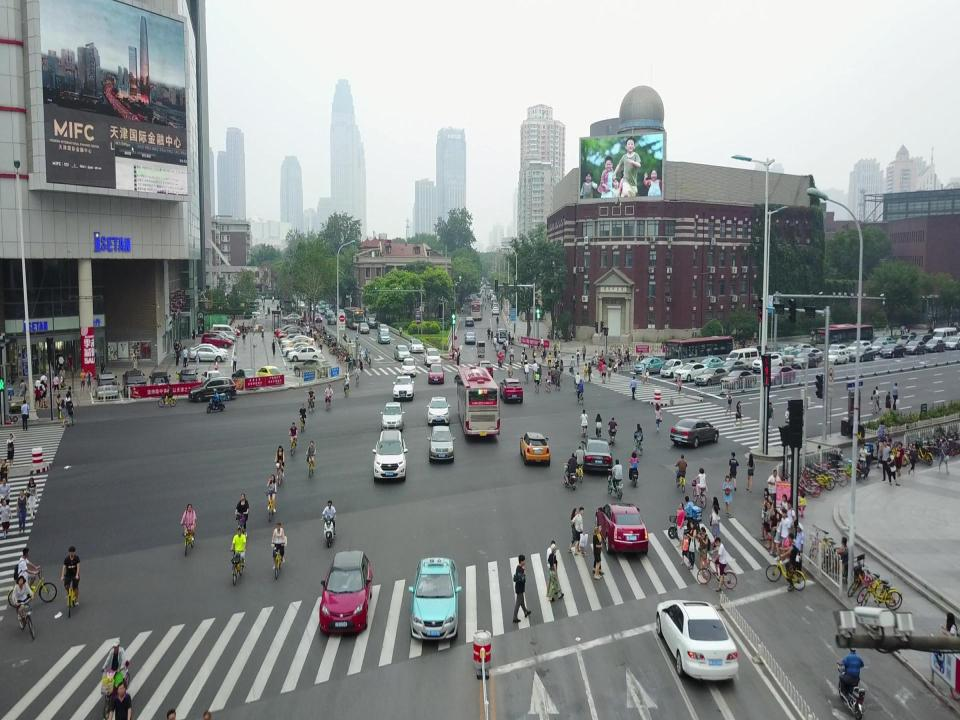bus: (454, 366, 500, 436), (660, 335, 735, 367), (813, 324, 873, 354), (343, 306, 365, 330), (470, 300, 484, 321)
car: (655, 600, 739, 682), (319, 547, 373, 634), (408, 556, 462, 640), (595, 502, 649, 557), (372, 430, 408, 483), (669, 418, 719, 449), (579, 436, 613, 472), (188, 377, 236, 402), (427, 425, 456, 464), (520, 430, 550, 466), (380, 401, 405, 434), (426, 396, 452, 427), (293, 358, 331, 379), (720, 369, 758, 389), (673, 361, 709, 382), (93, 371, 119, 399), (231, 367, 261, 391), (122, 369, 146, 398), (694, 366, 730, 385), (188, 346, 227, 363), (148, 371, 172, 398), (499, 377, 523, 404), (764, 365, 796, 385), (392, 374, 414, 402), (286, 345, 322, 362), (190, 342, 228, 358), (633, 355, 665, 374), (752, 353, 783, 372), (256, 366, 282, 388), (282, 341, 316, 357), (178, 368, 198, 395), (790, 351, 820, 369), (716, 359, 749, 375), (790, 352, 820, 369), (201, 369, 223, 392), (660, 358, 684, 379), (201, 333, 233, 348), (696, 354, 726, 370), (848, 345, 876, 362), (823, 348, 849, 366), (795, 346, 823, 362), (845, 339, 872, 355), (282, 338, 314, 351), (880, 342, 906, 358), (476, 359, 494, 381), (744, 344, 770, 359), (772, 344, 798, 359), (281, 334, 313, 346), (922, 338, 946, 354), (427, 363, 445, 384), (423, 347, 441, 367), (400, 357, 417, 378), (869, 339, 891, 355), (209, 330, 235, 343), (823, 342, 847, 356), (904, 340, 926, 355), (873, 334, 896, 348), (278, 328, 302, 341), (394, 344, 410, 362), (274, 324, 300, 335), (789, 343, 815, 354), (894, 334, 916, 347), (281, 312, 303, 323), (408, 338, 424, 353), (894, 339, 914, 351), (945, 336, 960, 350), (377, 331, 391, 344), (463, 330, 476, 344), (377, 324, 390, 336), (366, 317, 378, 329), (358, 322, 370, 334), (464, 315, 474, 327), (327, 312, 336, 325), (316, 306, 325, 316), (314, 313, 322, 323), (490, 298, 498, 307), (491, 303, 500, 310), (298, 300, 305, 308), (492, 307, 499, 315), (466, 293, 472, 302)
van: (725, 348, 759, 369), (930, 326, 957, 344), (212, 323, 236, 339), (912, 333, 934, 347)
